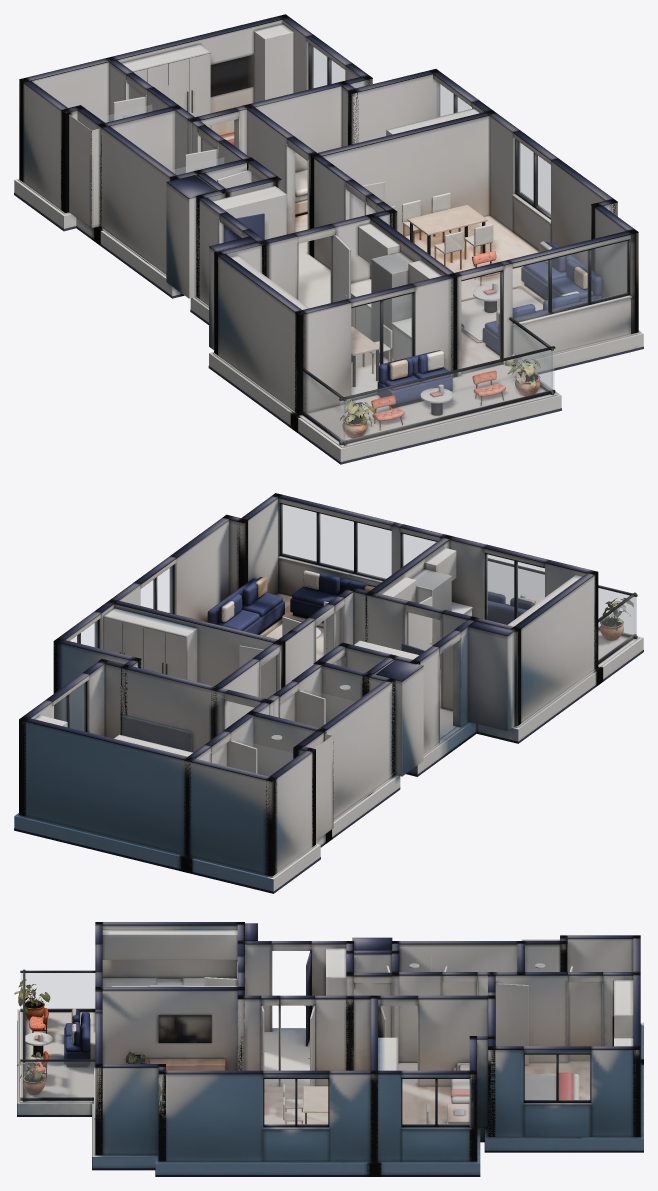
The picture shows the model from 3 angles, top to bottom: view 1: azimuth 30°, elevation 25°; view 2: azimuth 150°, elevation 25°; view 3: azimuth 270°, elevation 25°; orthographic projection. The views are drawn at different scales.
Visible parts, largest first — view 1: plan, railg3_m, glass5_m, glass3_m, glass4_m, railg4_m, glass2_m, railg5_m, glass0_m; view 2: plan, glass5_m, glass3_m, railg3_m, railg4_m, glass2_m, glass0_m, sg.001_m; view 3: plan, glass1_m, glass0_m, glass2_m, railg5_m, railg4_m.
Part boxes in pixels (x1,y1,x2,y2): plan: (14,14,643,464); railg3_m: (340,349,554,441); glass5_m: (513,241,627,319); glass3_m: (351,293,412,394); glass4_m: (461,272,500,367); railg4_m: (303,372,345,442); glass2_m: (517,141,550,216); railg5_m: (510,321,552,391); glass0_m: (311,45,344,88); plan: (14,493,643,893); glass5_m: (282,504,391,578); glass3_m: (487,554,544,624); railg3_m: (488,561,636,635); railg4_m: (598,597,634,660); glass2_m: (141,566,172,613); glass0_m: (53,683,85,731); sg.001_m: (236,740,292,776); plan: (14,922,643,1176); glass1_m: (402,1079,469,1124); glass0_m: (525,1055,589,1100); glass2_m: (264,1079,327,1124); railg5_m: (21,1062,94,1097); railg4_m: (21,973,94,1008).
Bounding box in the file's own units: 8.53 × 2.62 × 14.71.
2 materials, 1 textured.
